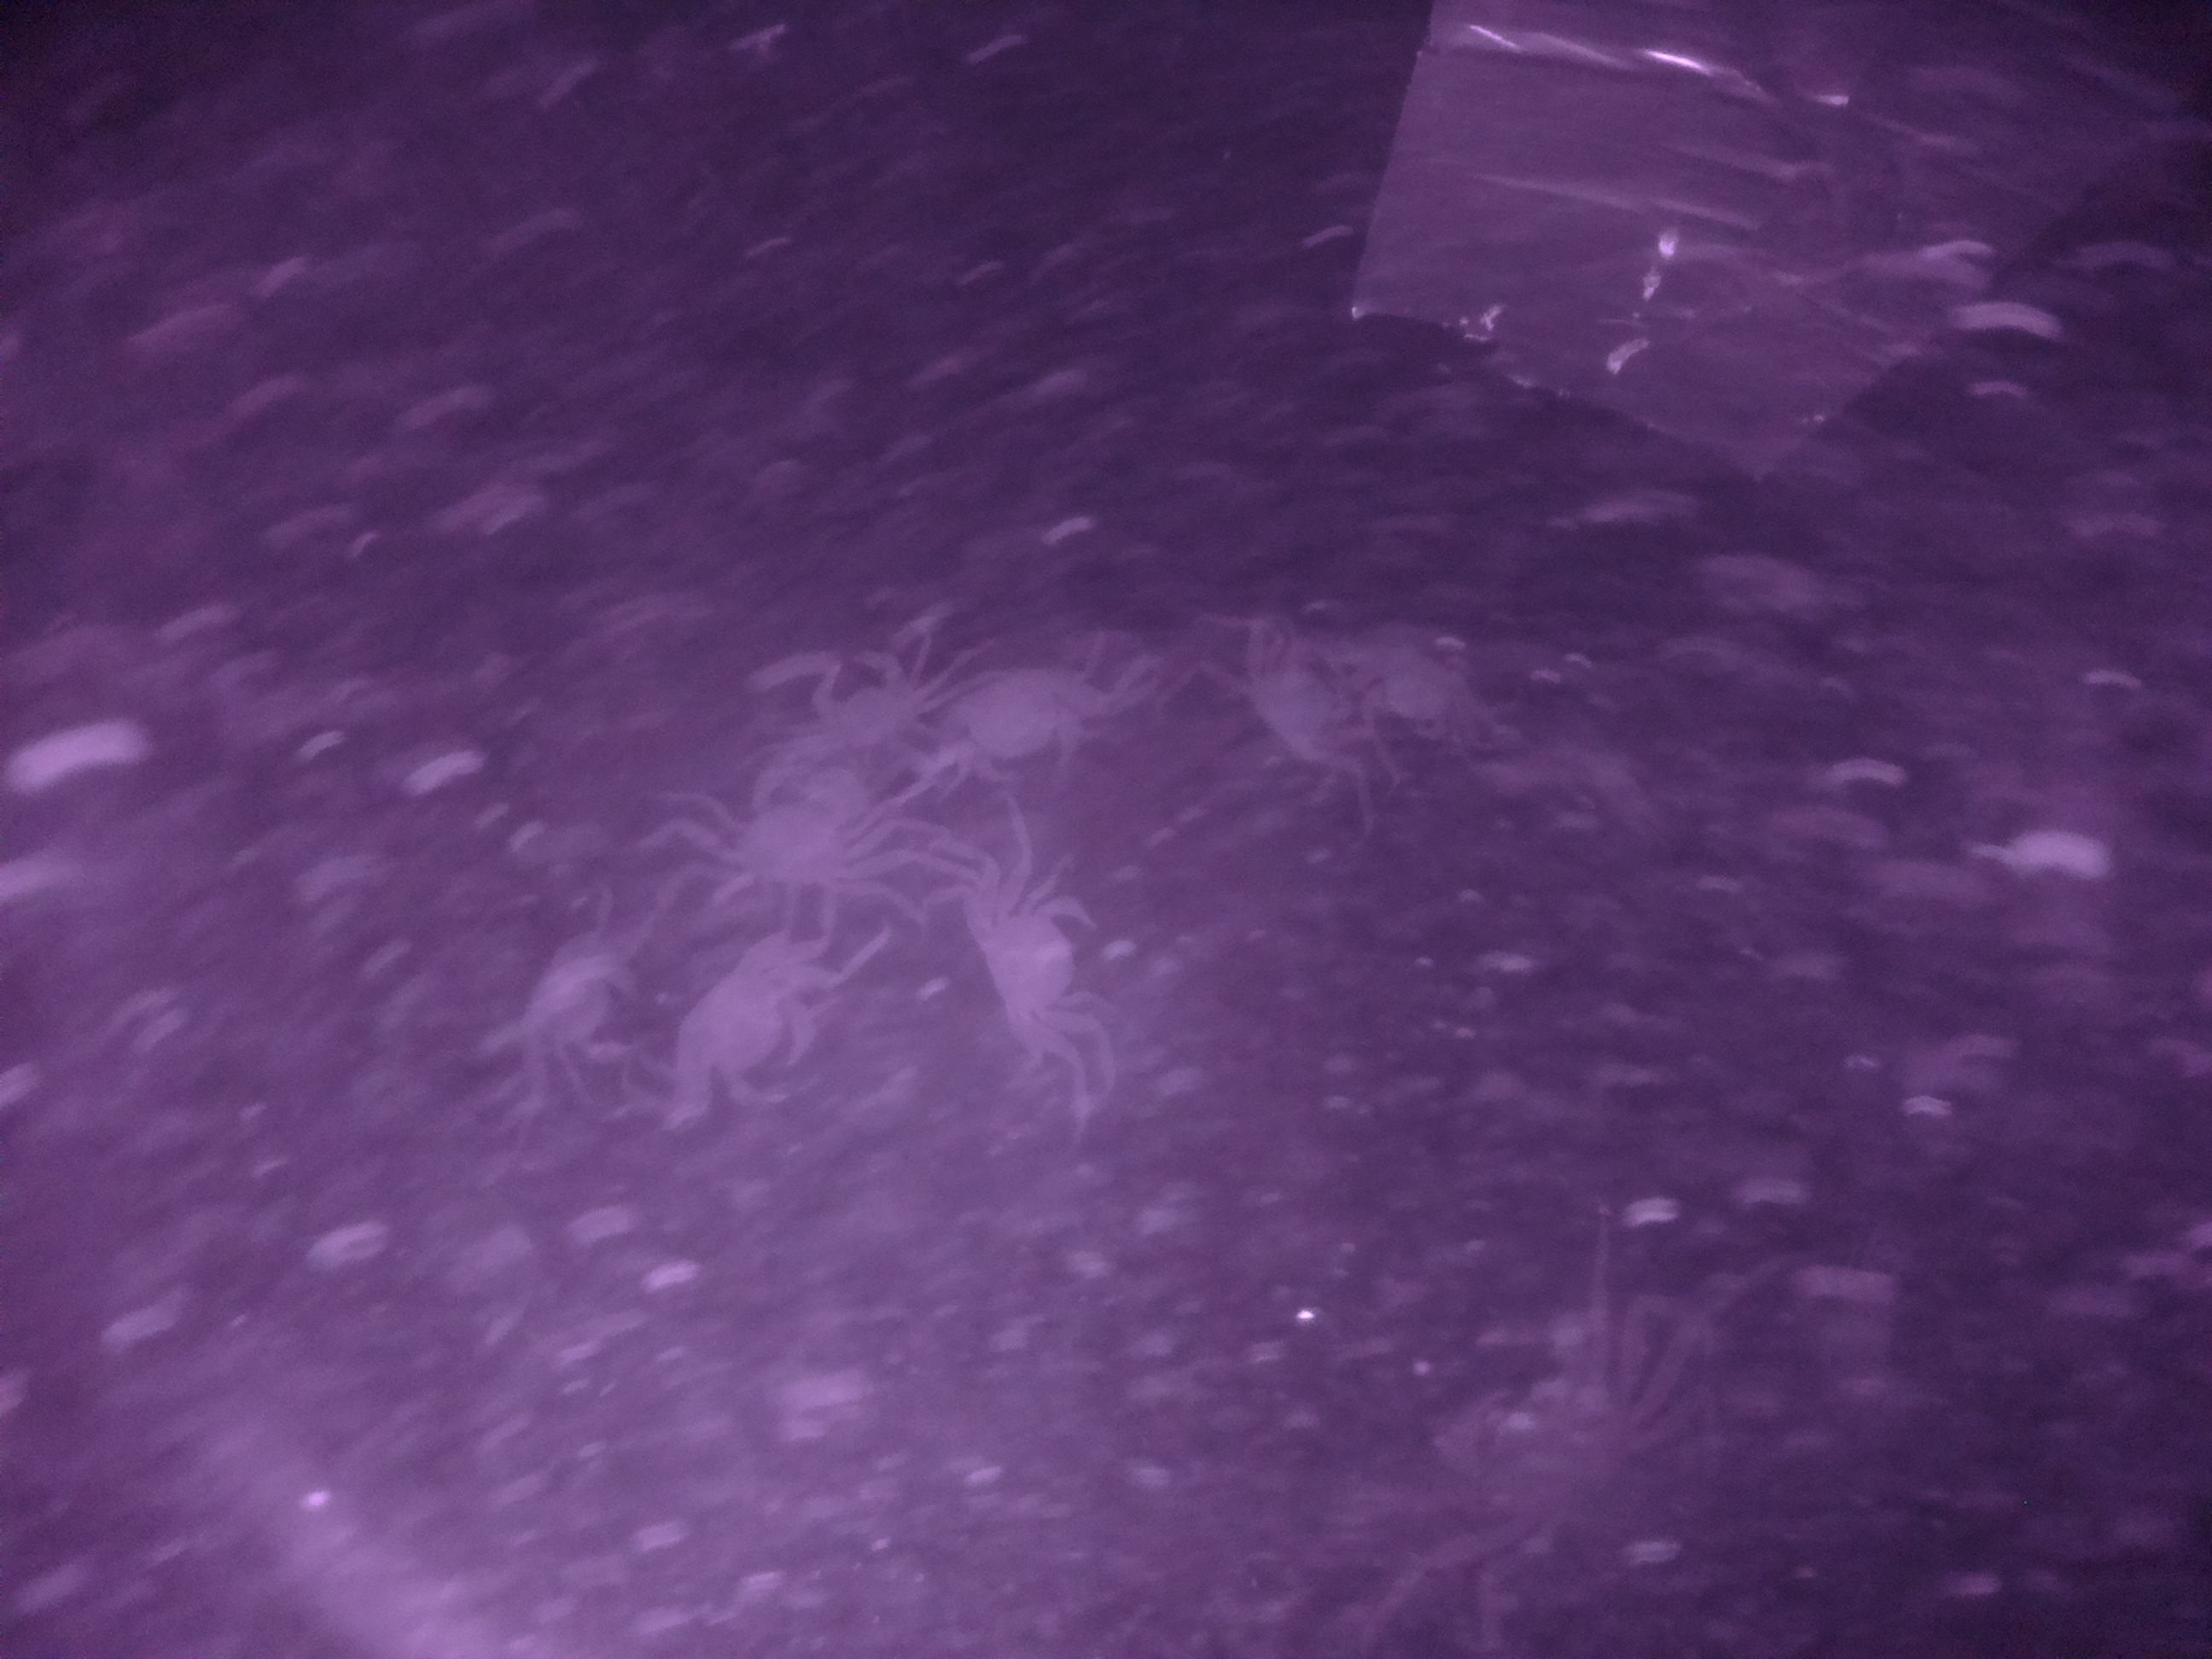Crab: (651, 920, 843, 1117), (956, 856, 1118, 1068), (709, 762, 894, 918)
